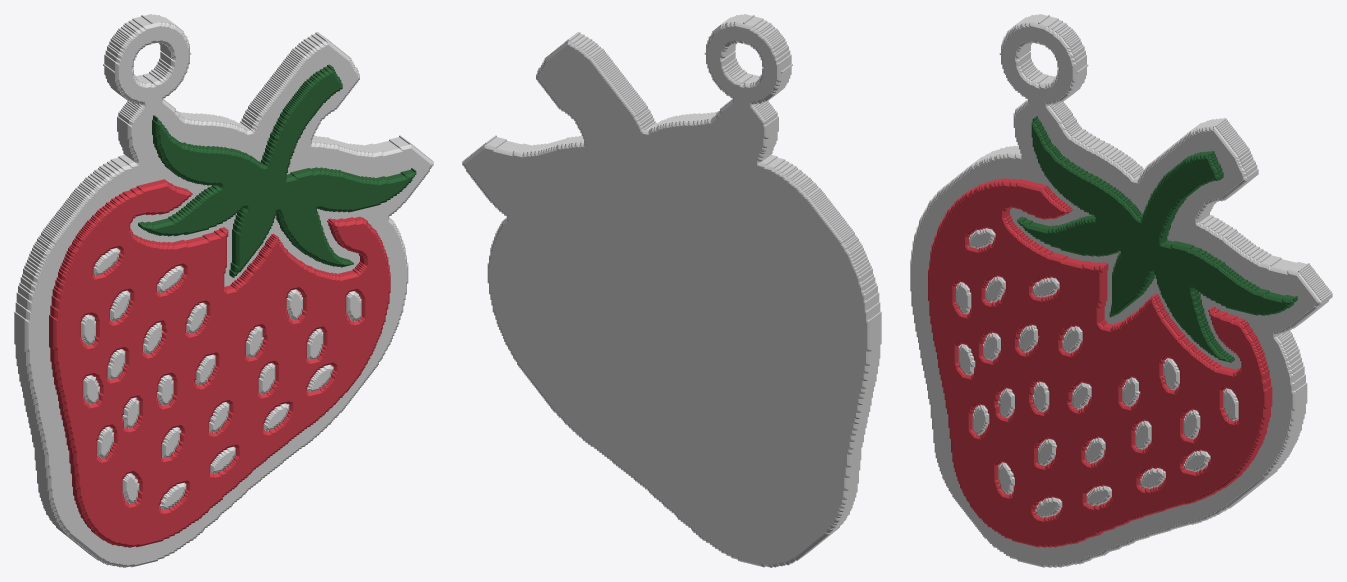
Rendered from strawberry_multicolour.obj.
3 renders of one model, left to right at view 1: azimuth 30°, elevation 25°; view 2: azimuth 150°, elevation 25°; view 3: azimuth 330°, elevation 25°, orthographic.
Visible parts, largest first — view 1: part_2_red_fruit, part_1_base_white, part_3_green_leaves; view 2: part_1_base_white; view 3: part_2_red_fruit, part_1_base_white, part_3_green_leaves.
Part boxes in pixels (x1,y1,x2,y2): part_2_red_fruit: (49, 179, 390, 547); part_1_base_white: (14, 14, 433, 567); part_3_green_leaves: (138, 64, 416, 277); part_1_base_white: (462, 14, 881, 567); part_2_red_fruit: (928, 178, 1272, 547); part_1_base_white: (910, 14, 1332, 567); part_3_green_leaves: (1017, 116, 1297, 362).
Size of the model in its own units: 53.67 by 67.67 by 4.2.
